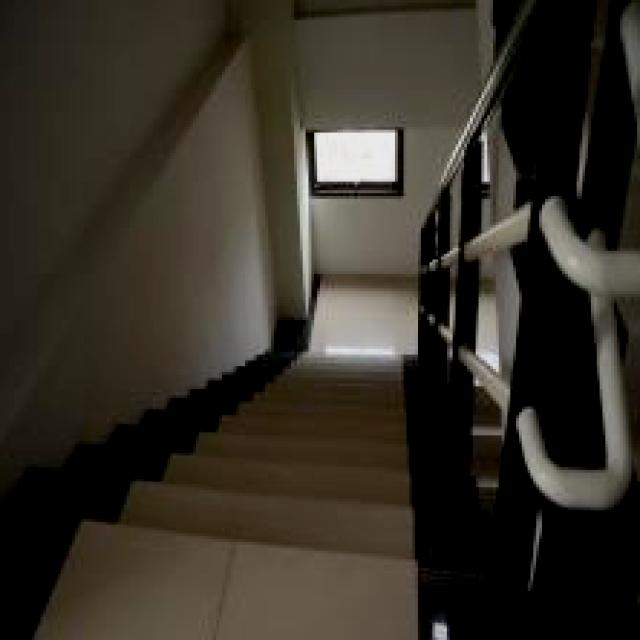downstair: (220, 390, 428, 640)
